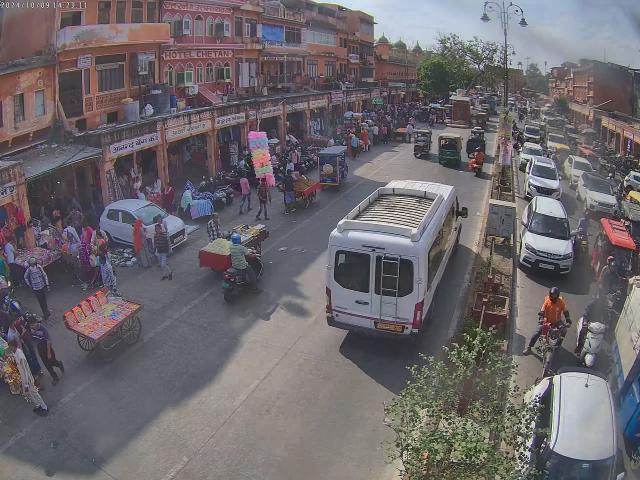auto: (596, 216, 640, 282), (316, 148, 350, 190), (436, 132, 462, 168), (411, 126, 434, 158)
bus: (324, 181, 468, 350)
car: (517, 197, 578, 276), (578, 176, 622, 222), (524, 155, 561, 196)
helmet: (546, 286, 562, 300), (594, 294, 606, 308), (606, 254, 615, 266), (610, 262, 618, 275), (584, 210, 592, 220)
license_plate: (378, 322, 402, 332), (538, 263, 554, 269), (222, 282, 230, 288)
motorbike-rider: (530, 286, 572, 362), (598, 255, 618, 338), (572, 211, 592, 265)
person: (1, 340, 51, 418), (148, 178, 164, 203)
scooty-rider: (220, 223, 266, 302), (576, 298, 608, 372), (468, 149, 486, 177)
vendor: (64, 294, 144, 360), (282, 170, 321, 210)
